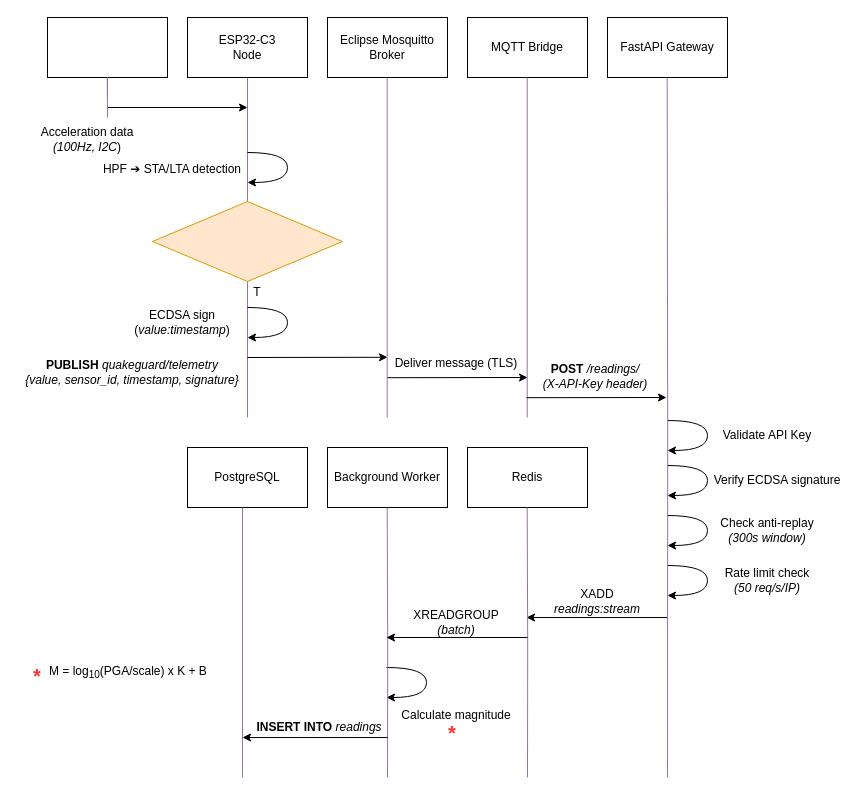
The diagram is 864 pixels wide and 796 high, and some of its shapes have lost their labels. The shapes that lost their labels are listed below. From the top down, each one's centre as x and y in pixels, then its label:
At [107,47]: "ADXL345 Sensor".
At [247,241]: "STA/LTA ratio > 1.8".
